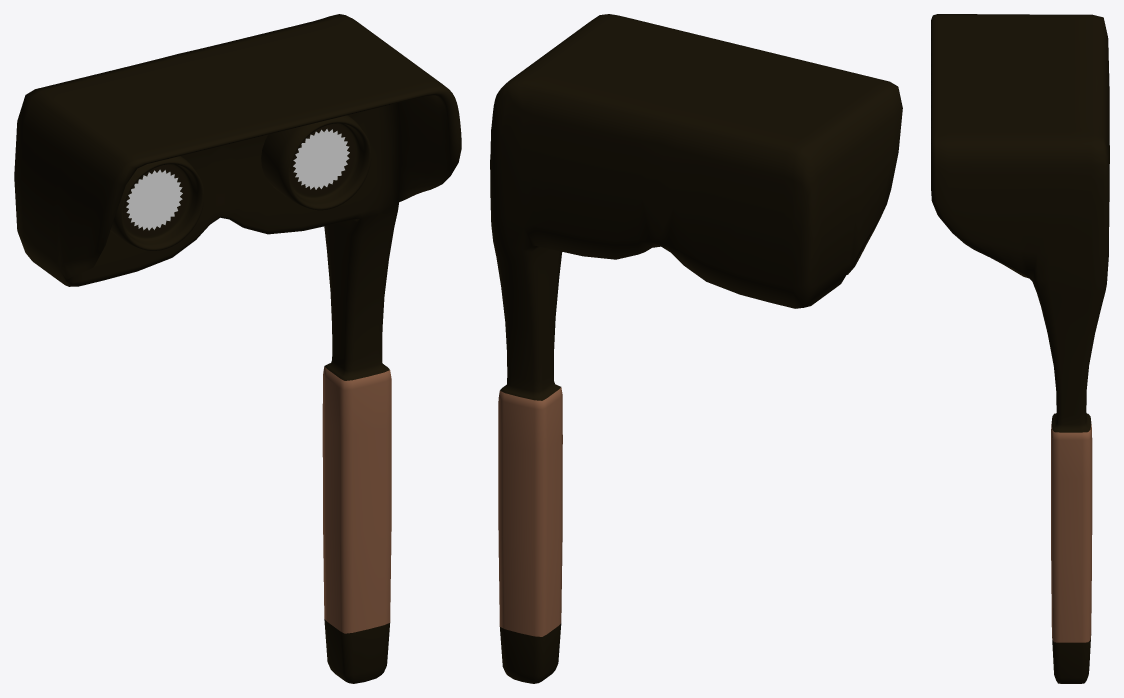
File: Okular.fbx
3 views of the same model, side by side, from view 1: azimuth 30°, elevation 25°; view 2: azimuth 150°, elevation 25°; view 3: azimuth 270°, elevation 25° (orthographic). The views are drawn at different scales.
Parts seen in each view (by area): view 1: Plane; view 2: Plane; view 3: Plane.
Boxes of the visible parts, left/top/right/bottom form: Plane: left=14, top=14, right=461, bottom=683; Plane: left=490, top=14, right=902, bottom=683; Plane: left=931, top=14, right=1109, bottom=683.
Size of the model in its own units: 2330 by 4149 by 1243.
